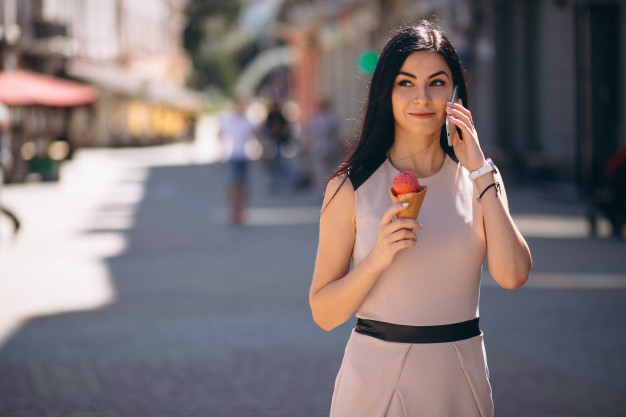phone: (442, 87, 481, 150)
talk: (393, 69, 488, 168)
